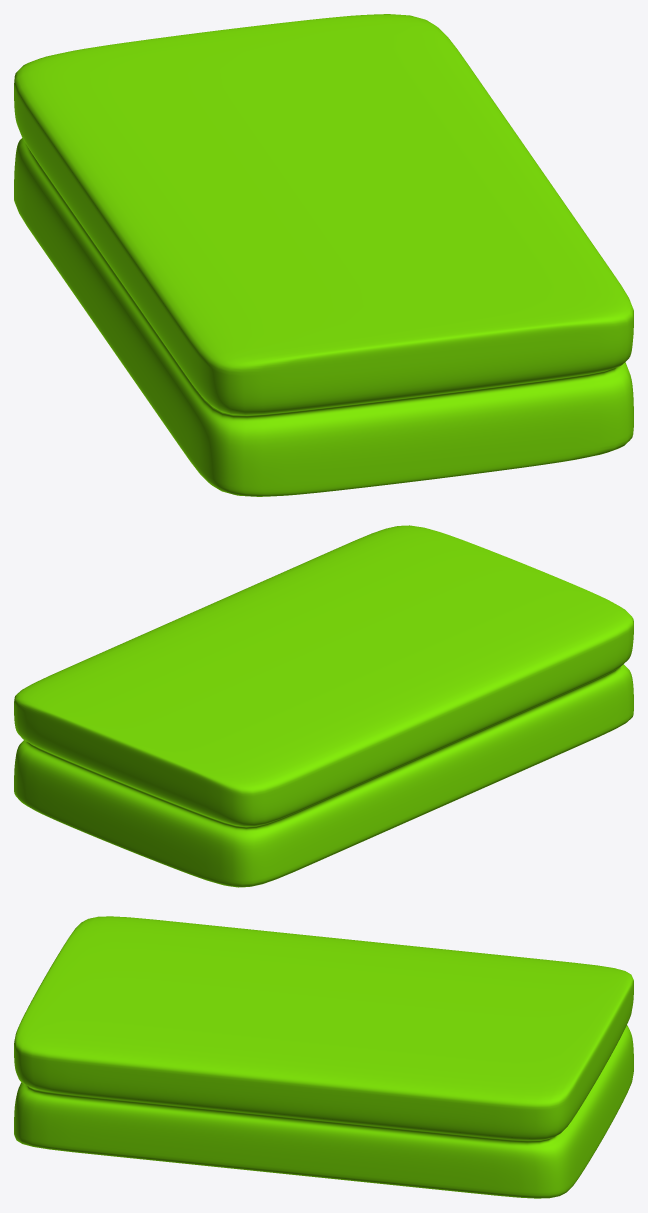
File: bulto3.fbx
The picture shows the model from 3 angles, top to bottom: view 1: azimuth 30°, elevation 25°; view 2: azimuth 150°, elevation 25°; view 3: azimuth 270°, elevation 25°; orthographic projection. The views are drawn at different scales.
Parts seen in each view (by area): view 1: Cube.023; view 2: Cube.023; view 3: Cube.023.
Boxes of the visible parts, box(x1,y1,x2,y2) form: Cube.023: box(14, 14, 633, 496); Cube.023: box(14, 525, 633, 887); Cube.023: box(14, 916, 633, 1198).
Bounding box in the file's own units: 125 × 32.94 × 173.
